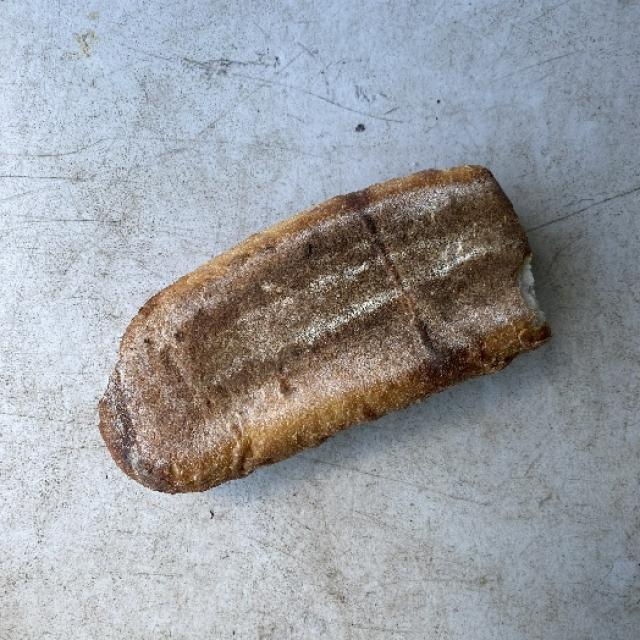wet: (103, 185, 533, 481)
